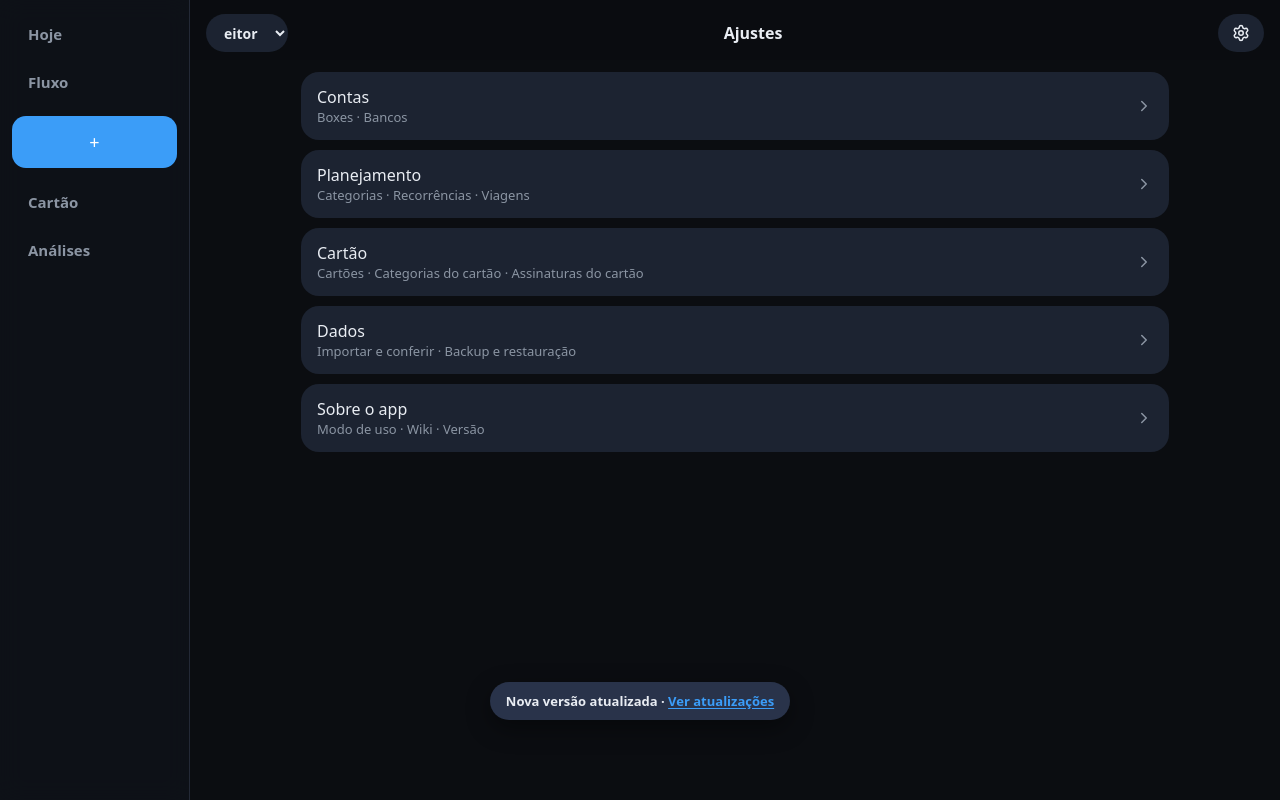
engrenagem sempre volta pro menu inicial de Ajustes, mesmo já estando numa seção
What coordinates should you click on to do the following:
click the button named "Ajustes"
I would click on:
 (1241, 33)
Its box is left=1218, top=14, right=1264, bottom=52.
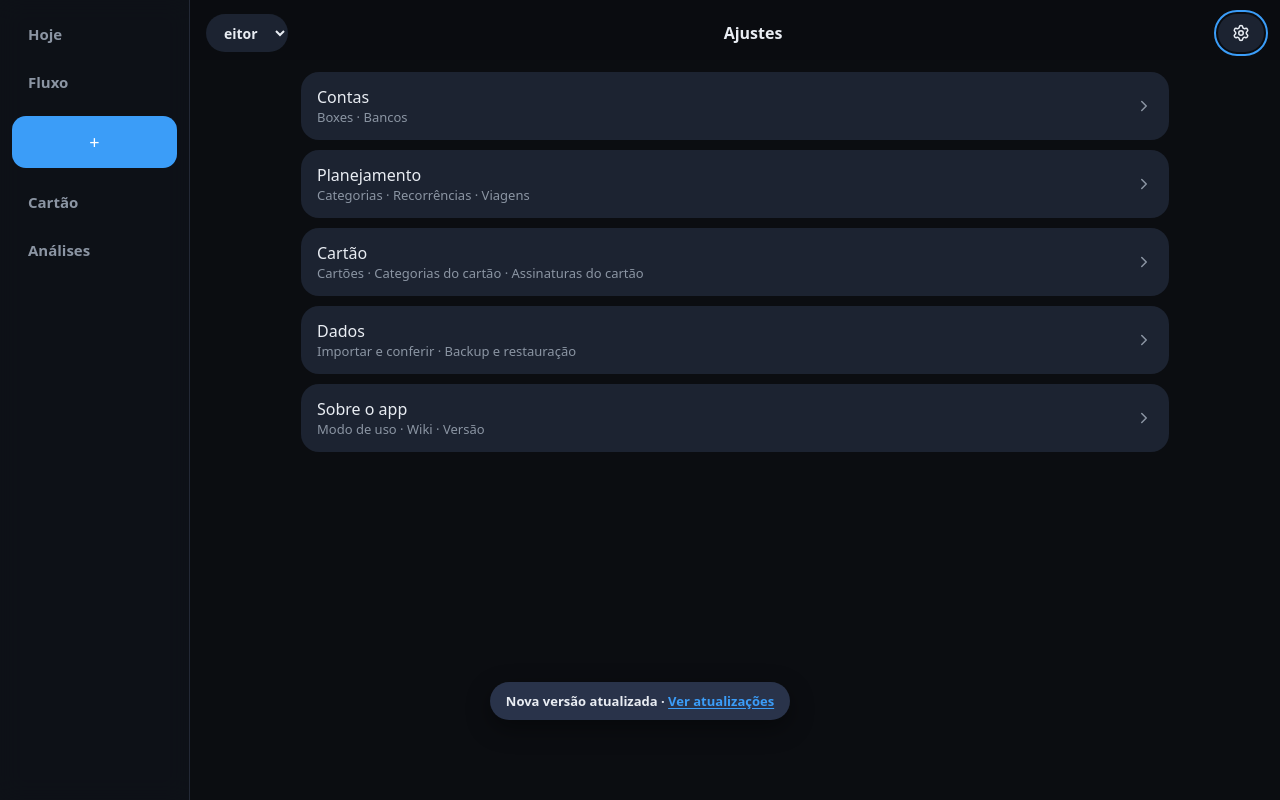
What coordinates should you click on to do the following:
click the button "Contas Boxes · Bancos"
I would click on:
 (343, 97)
Its box is left=301, top=72, right=1169, bottom=140.
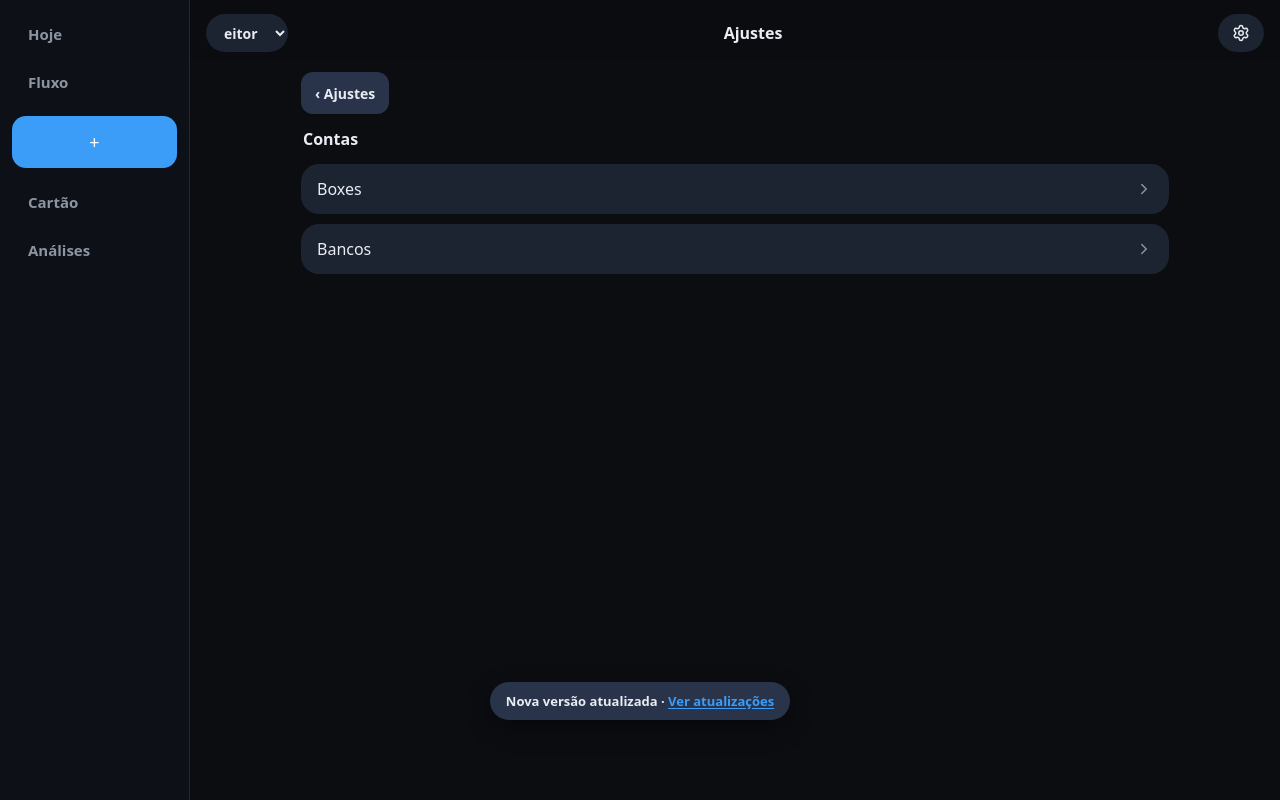
What coordinates should you click on to do the following:
click the button "Boxes"
I would click on:
 (339, 189)
Its box is left=301, top=164, right=1169, bottom=214.
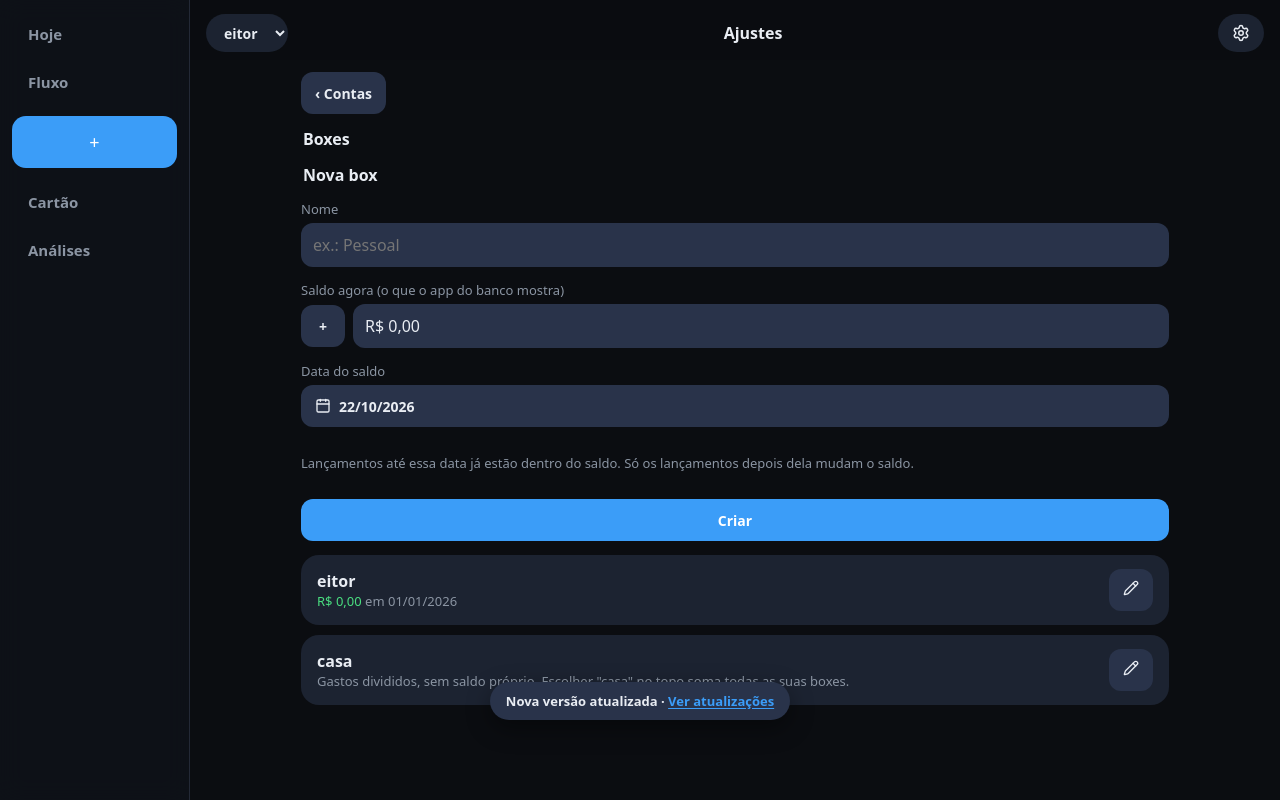
Now the heading "Boxes" is shown, box left=303, top=128, right=350, bottom=150
What coordinates should you click on to do the following:
click the button named "Ajustes"
I would click on:
 (1241, 33)
Its box is left=1218, top=14, right=1264, bottom=52.
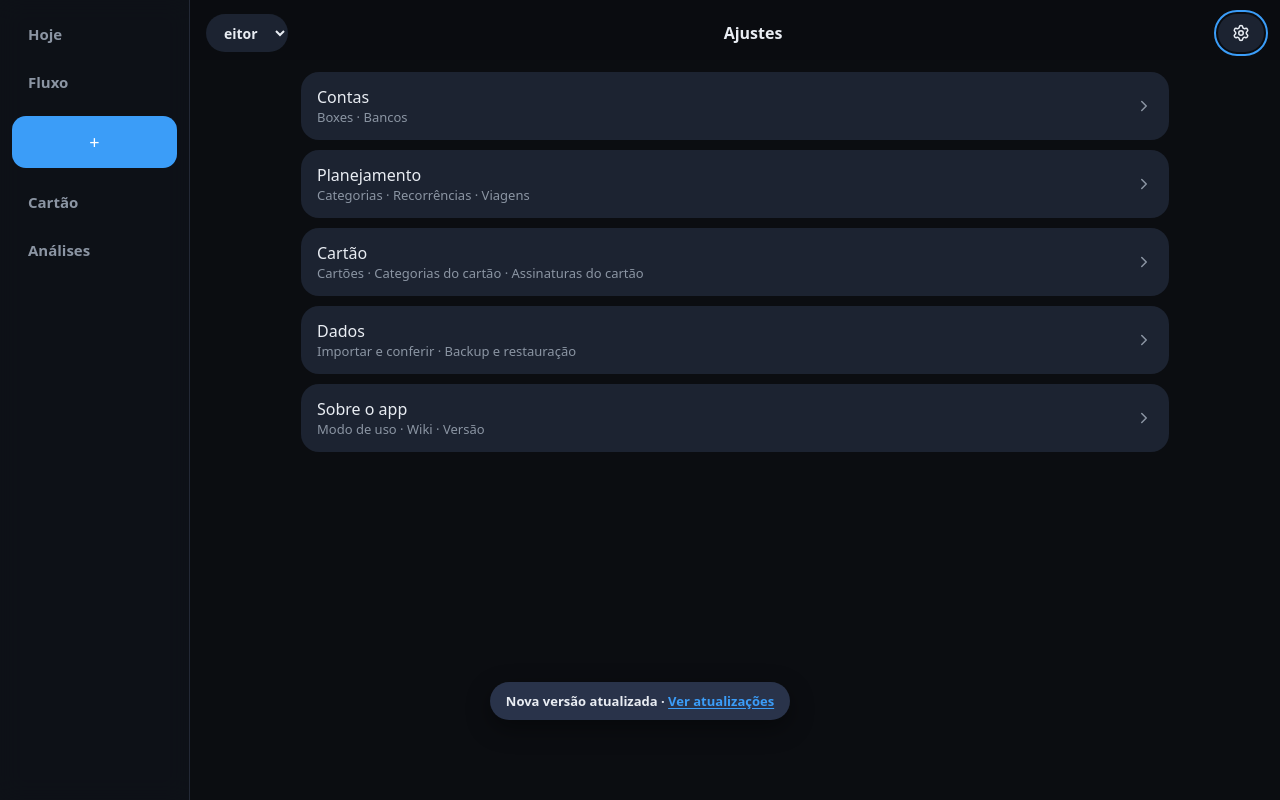
Now the button "Planejamento Categorias · Recorrências · Viagens" is shown, box left=301, top=150, right=1169, bottom=218
